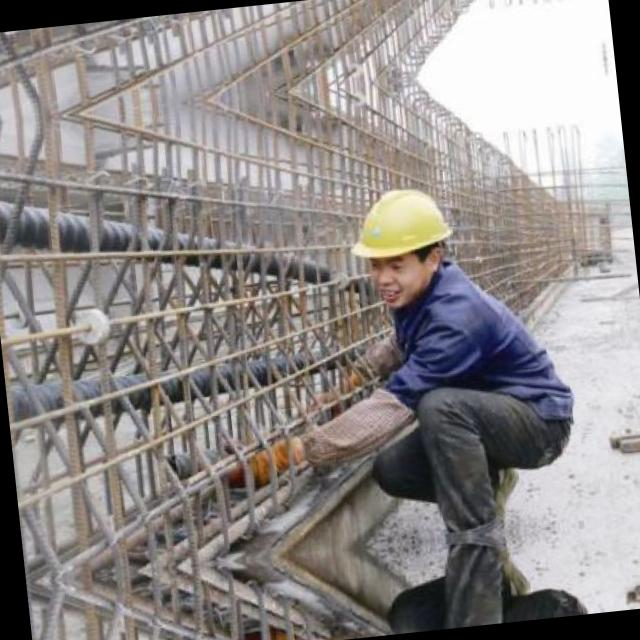helmet: (338, 172, 465, 316)
